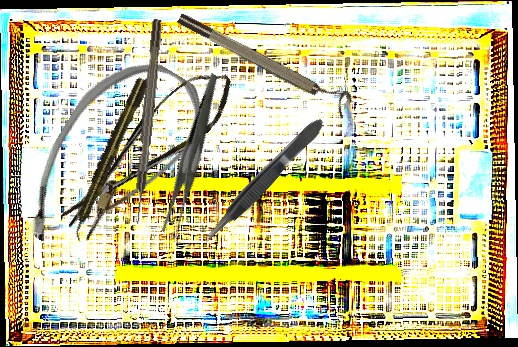Cannula: (7, 38, 219, 282)
Dressing Forceps: (122, 72, 265, 241)
Fixation Ring: (175, 2, 355, 119)
Handpiece: (65, 74, 153, 242)
Hook Surgical: (131, 18, 164, 225)
Micro Scissor: (44, 58, 247, 238)
Tissue Forceps: (195, 113, 331, 250)
